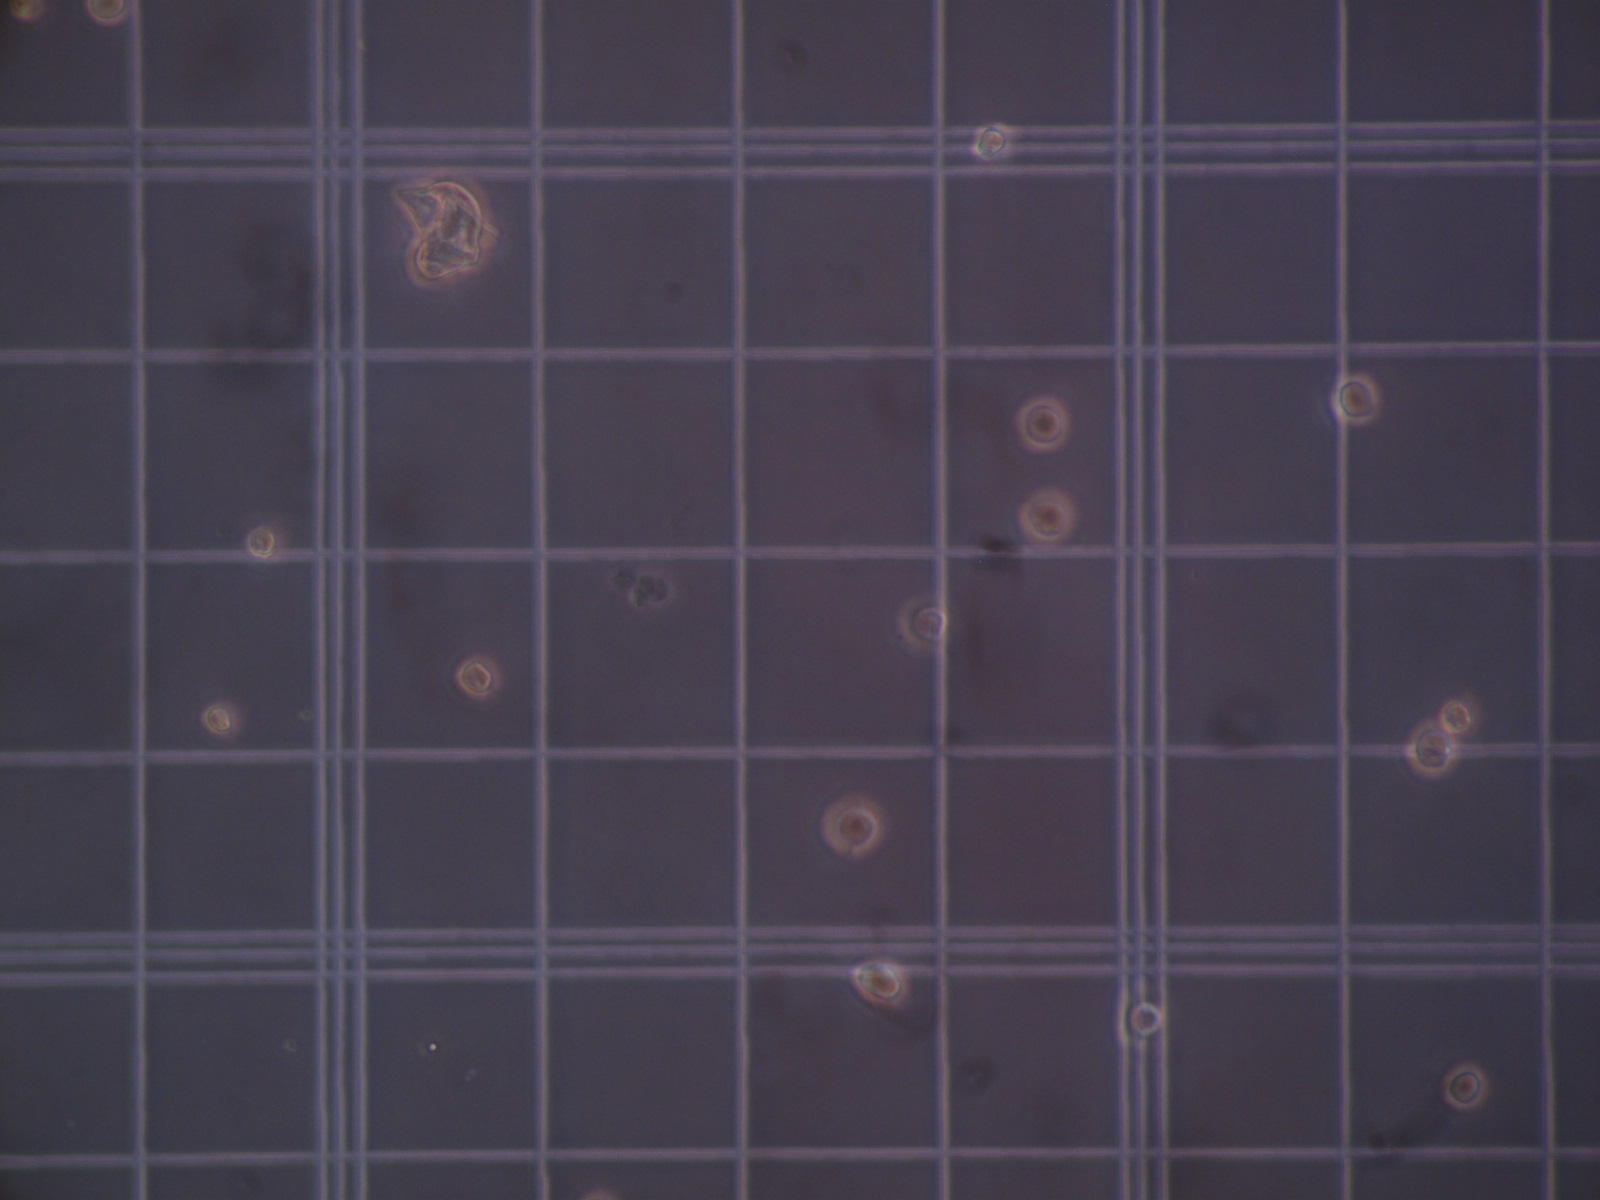hemo: (821, 793, 884, 857), (896, 592, 951, 653), (1018, 488, 1075, 542), (1015, 396, 1070, 453), (1405, 721, 1456, 778), (852, 957, 910, 1007), (1116, 989, 1164, 1047), (1330, 372, 1380, 426), (1443, 1063, 1487, 1109), (456, 654, 500, 700), (631, 572, 679, 611), (1439, 697, 1480, 735), (973, 122, 1010, 161), (202, 701, 238, 737), (246, 524, 278, 560), (84, 1, 129, 25), (3, 1, 47, 23)
